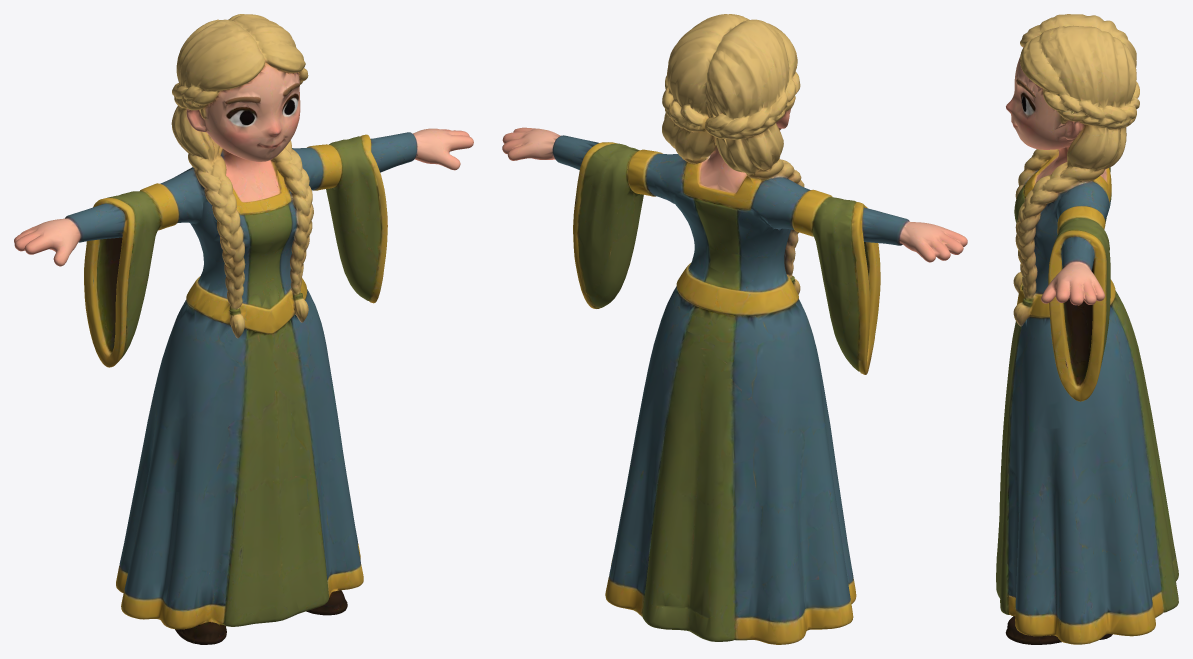
File: a3D-adales.glb
3 renders of one model, left to right at view 1: azimuth 30°, elevation 25°; view 2: azimuth 150°, elevation 25°; view 3: azimuth 270°, elevation 25°, orthographic.
Parts seen in each view (by area): view 1: geometry_0; view 2: geometry_0; view 3: geometry_0.
Part boxes in pixels (x1,y1,x2,y2): geometry_0: [14, 14, 473, 644]; geometry_0: [502, 14, 967, 644]; geometry_0: [996, 14, 1178, 644].
Bounding box in the file's own units: 1.55 × 1.9 × 0.5393.
1 material, 1 textured.
